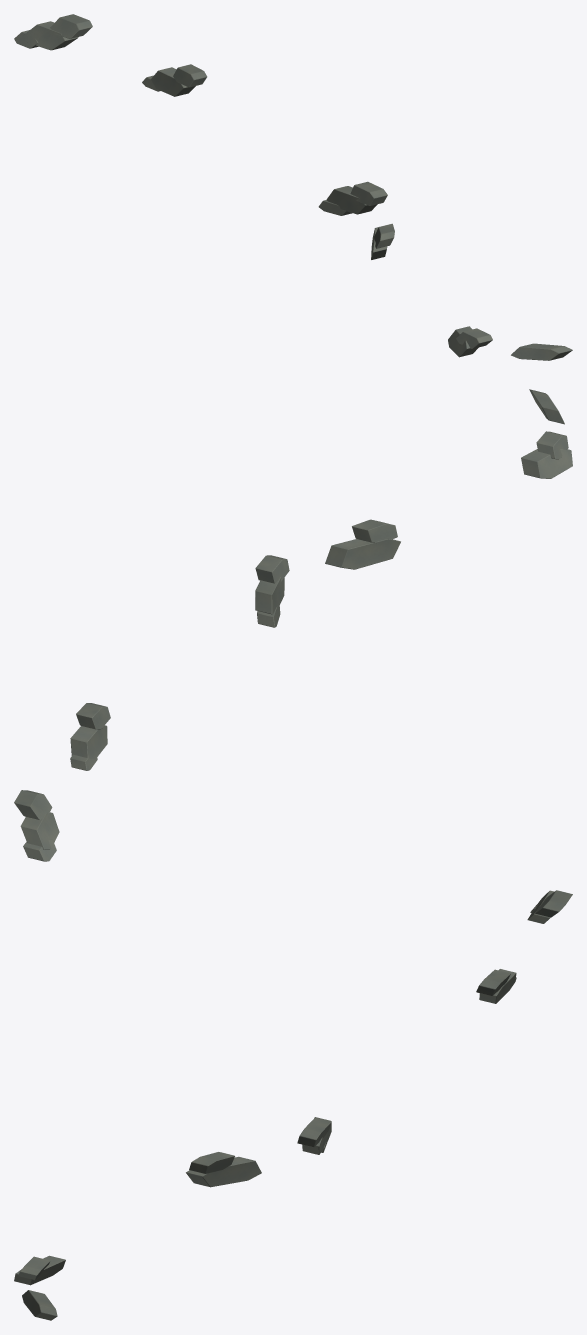
Rendered from ground_rock.glb.
3 views of the same model, one above another, from view 1: azimuth 30°, elevation 25°; view 2: azimuth 150°, elevation 25°; view 3: azimuth 330°, elevation 25° (orthographic). The views are drawn at different scales.
Parts seen in each view (by area): view 1: G23_EmbeddedRockOutcrops; view 2: G23_EmbeddedRockOutcrops; view 3: G23_EmbeddedRockOutcrops.
Boxes of the visible parts, x1,y1,x2,y2 form: G23_EmbeddedRockOutcrops: [14, 14, 572, 360]; G23_EmbeddedRockOutcrops: [14, 389, 572, 861]; G23_EmbeddedRockOutcrops: [14, 890, 572, 1320].
Bounding box in the file's own units: 5.87 × 2.16 × 52.54.
1 material, 1 textured.
